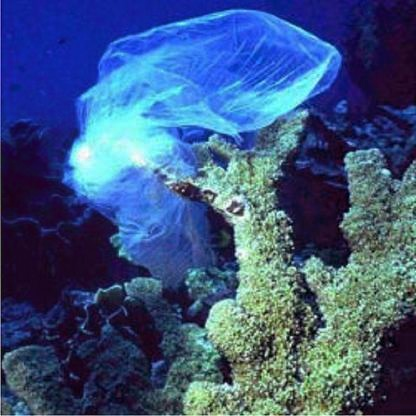pbag: (62, 8, 344, 292)
